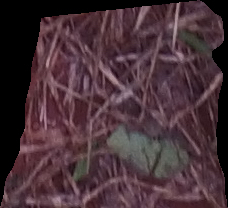soil: (3, 3, 226, 207)
